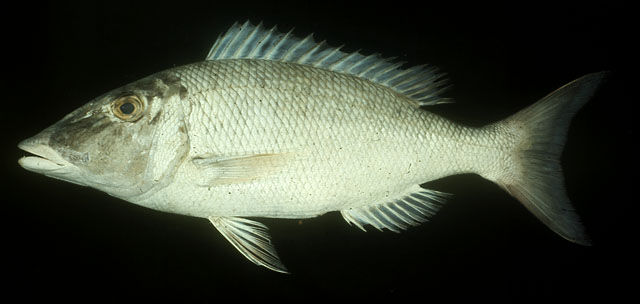fish: (18, 19, 590, 275)
